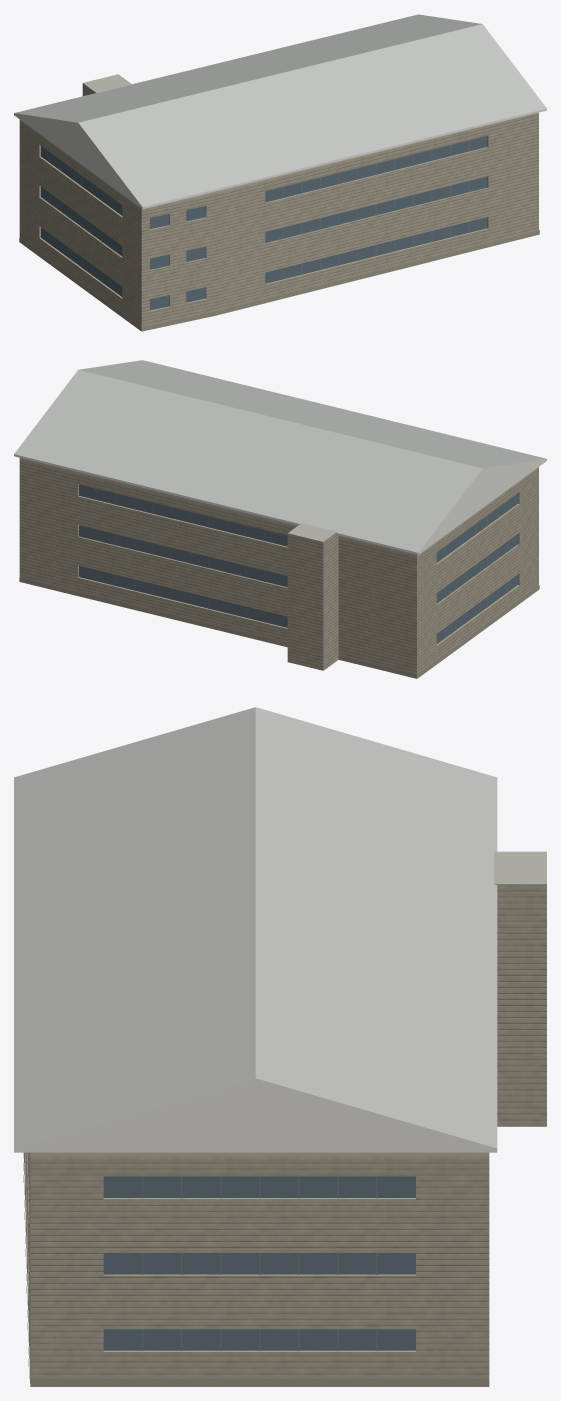
3 views of the same model, one above another, from view 1: azimuth 30°, elevation 25°; view 2: azimuth 150°, elevation 25°; view 3: azimuth 270°, elevation 25° (orthographic). The views are drawn at different scales.
Visible parts, largest first — view 1: auditorium__wall, auditorium__roofAccent, auditorium__glass, auditorium__trim, auditorium__base, auditorium__frame, auditorium__parapet, auditorium__roof; view 2: auditorium__wall, auditorium__roofAccent, auditorium__glass, auditorium__trim, auditorium__base, auditorium__parapet, auditorium__frame, auditorium__roof; view 3: auditorium__roofAccent, auditorium__wall, auditorium__glass, auditorium__trim, auditorium__base, auditorium__parapet, auditorium__roof, auditorium__frame.
Part boxes in pixels (x1,y1,x2,y2): auditorium__wall: (19, 83, 538, 331); auditorium__roofAccent: (14, 14, 546, 206); auditorium__glass: (41, 136, 487, 310); auditorium__trim: (14, 108, 546, 209); auditorium__base: (19, 230, 539, 331); auditorium__frame: (50, 140, 469, 290); auditorium__parapet: (20, 115, 528, 209); auditorium__roof: (83, 74, 131, 92); auditorium__wall: (19, 460, 538, 678); auditorium__roofAccent: (14, 360, 546, 552); auditorium__glass: (79, 484, 517, 643); auditorium__trim: (14, 454, 546, 554); auditorium__base: (19, 577, 539, 678); auditorium__parapet: (19, 458, 538, 556); auditorium__frame: (97, 489, 508, 638); auditorium__roof: (288, 523, 336, 541); auditorium__roofAccent: (14, 707, 497, 1148); auditorium__wall: (24, 884, 546, 1383); auditorium__glass: (103, 1176, 415, 1350); auditorium__trim: (14, 1078, 497, 1152); auditorium__base: (23, 1153, 489, 1386); auditorium__parapet: (30, 1152, 489, 1157); auditorium__roof: (494, 851, 546, 884); auditorium__frame: (141, 1176, 377, 1350).
Size of the model in its own units: 39.6 by 15.5 by 24.03.
Materials: 9 (1 with a texture image).
